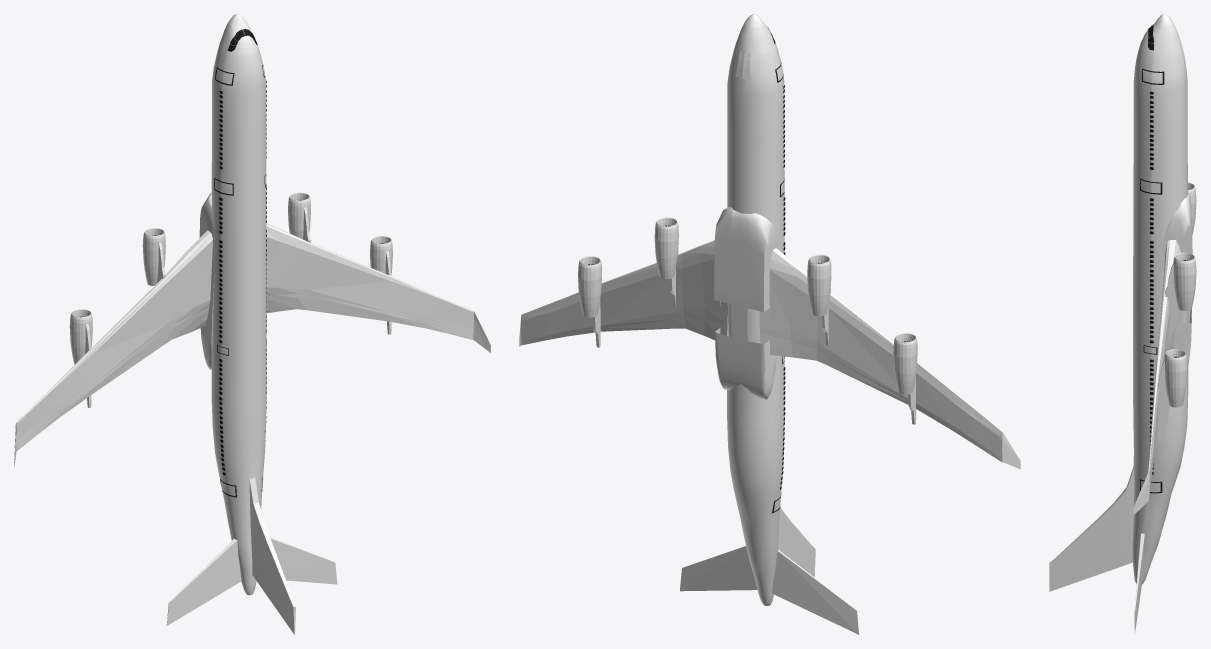
3 views of the same model, side by side, from view 1: azimuth 30°, elevation 25°; view 2: azimuth 150°, elevation 25°; view 3: azimuth 270°, elevation 25° (orthographic). The views are drawn at different scales.
Parts seen in each view (by area): view 1: part_1, part_3, part_5, part_0, part_8, part_7, part_31, part_15, part_10, part_20, part_25; view 2: part_1, part_5, part_3, part_8, part_7, part_0, part_10, part_15, part_20, part_25; view 3: part_1, part_0, part_3, part_31, part_25, part_20, part_24, part_19, part_7, part_4, part_15.
Part boxes in pixels (x1,y1,x2,y2): part_1: [199, 14, 266, 595]; part_3: [266, 223, 473, 340]; part_5: [16, 230, 212, 450]; part_0: [249, 477, 295, 634]; part_8: [166, 538, 241, 625]; part_7: [270, 536, 337, 584]; part_31: [214, 65, 266, 497]; part_15: [142, 228, 165, 285]; part_10: [69, 309, 92, 364]; part_20: [288, 192, 310, 239]; part_25: [370, 236, 392, 274]; part_1: [714, 14, 784, 605]; part_5: [759, 248, 1002, 461]; part_3: [521, 240, 728, 345]; part_8: [771, 550, 859, 634]; part_7: [680, 546, 757, 591]; part_0: [778, 507, 815, 577]; part_10: [893, 333, 917, 394]; part_15: [807, 254, 831, 316]; part_20: [654, 217, 678, 278]; part_25: [578, 256, 601, 317]; part_1: [1132, 14, 1192, 584]; part_0: [1049, 467, 1134, 591]; part_3: [1148, 240, 1183, 498]; part_31: [1140, 68, 1164, 493]; part_25: [1164, 349, 1187, 407]; part_20: [1173, 252, 1196, 310]; part_24: [1157, 360, 1169, 442]; part_19: [1165, 264, 1178, 345]; part_7: [1134, 533, 1144, 634]; part_4: [1133, 472, 1149, 514]; part_15: [1188, 182, 1196, 234].
Bounding box in the file's own units: 0.8598 × 1 × 0.2302.
32 materials, 17 textured.
